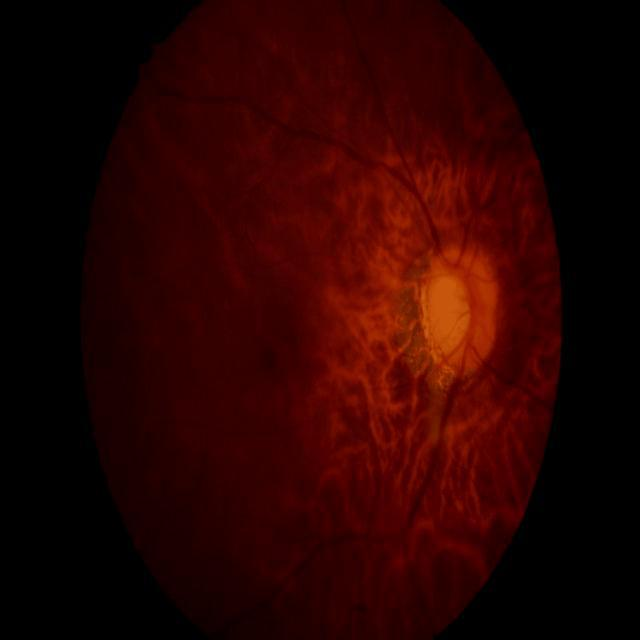cup: (430, 268, 477, 358)
disk: (422, 245, 498, 374)
